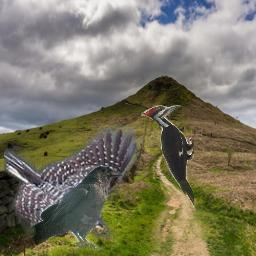Crow: (31, 165, 125, 251)
Woodpecker: (4, 124, 143, 241), (141, 105, 194, 208)
